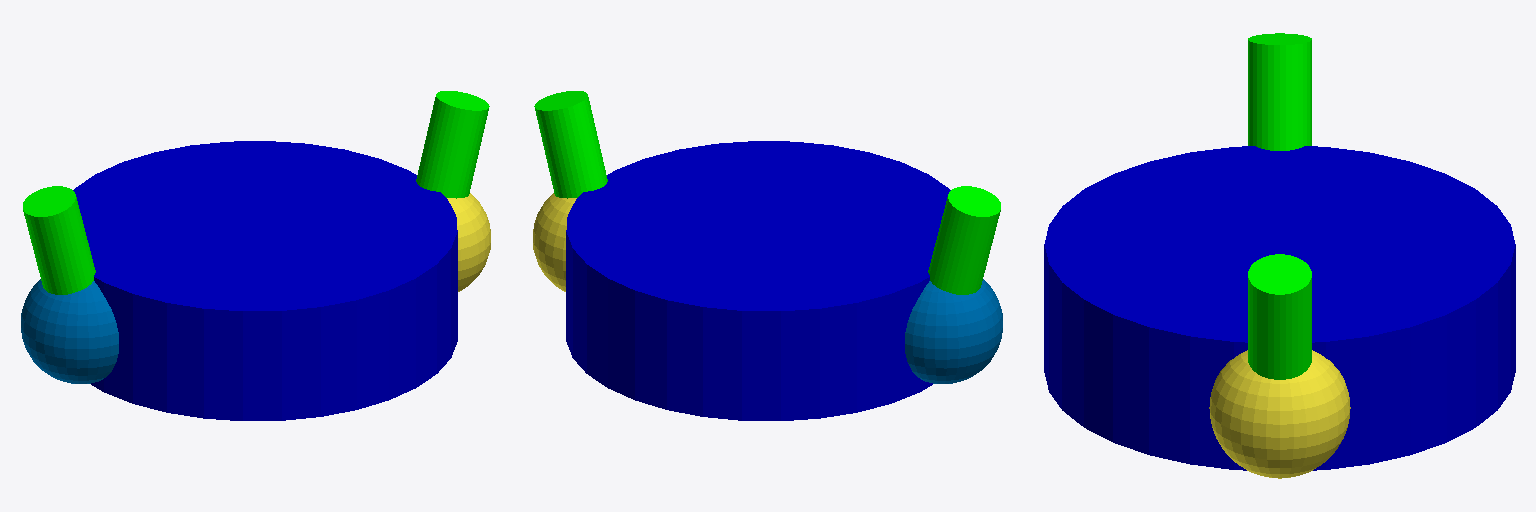
robot.urdf — gripper_2f_1j:
<?xml version='1.0' encoding='UTF-8'?>
<robot name="gripper_2f_1j">
  <link name="palm">
    <inertial>
      <origin xyz="0.0 0.0 0.0" rpy="0.0 -0.0 0.0"/>
      <mass value="1.0"/>
      <inertia ixx="1.0" ixy="0.0" ixz="0.0" iyy="1.0" iyz="0.0" izz="1.0"/>
    </inertial>
    <visual>
      <geometry>
        <cylinder radius="0.05" length="0.03"/>
      </geometry>
      <material name="blue"/>
      <origin xyz="0.0 0.0 0.0" rpy="0.0 -0.0 0.0"/>
    </visual>
    <collision>
      <geometry>
        <cylinder radius="0.05" length="0.03"/>
      </geometry>
      <origin xyz="0.0 0.0 0.0" rpy="0.0 0.0 0.0"/>
    </collision>
  </link>
  <link name="f11">
    <inertial>
      <origin xyz="0.0 0.0 0.0" rpy="0.0 -0.0 0.0"/>
      <mass value="1.0"/>
      <inertia ixx="1.0" ixy="0.0" ixz="0.0" iyy="1.0" iyz="0.0" izz="1.0"/>
    </inertial>
    <visual>
      <geometry>
        <cylinder radius="0.0067993569922371695" length="0.03663931314959"/>
      </geometry>
      <material name="green"/>
      <origin xyz="0.0 0.0 0.018319656574795" rpy="0.0 -0.0 0.0"/>
    </visual>
    <collision>
      <geometry>
        <cylinder radius="0.0067993569922371695" length="0.03663931314959"/>
      </geometry>
      <origin xyz="0.0 0.0 0.05" rpy="0.0 0.0 0.0"/>
    </collision>
  </link>
  <link name="f21">
    <inertial>
      <origin xyz="0.0 0.0 0.0" rpy="0.0 -0.0 0.0"/>
      <mass value="1.0"/>
      <inertia ixx="1.0" ixy="0.0" ixz="0.0" iyy="1.0" iyz="0.0" izz="1.0"/>
    </inertial>
    <visual>
      <geometry>
        <cylinder radius="0.0067993569922371695" length="0.03663931314959"/>
      </geometry>
      <material name="green"/>
      <origin xyz="0.0 0.0 0.018319656574795" rpy="0.0 -0.0 0.0"/>
    </visual>
    <collision>
      <geometry>
        <cylinder radius="0.0067993569922371695" length="0.03663931314959"/>
      </geometry>
      <origin xyz="0.0 0.0 0.05" rpy="0.0 0.0 0.0"/>
    </collision>
  </link>
  <link name="f11_base">
    <inertial>
      <origin xyz="0.0 0.0 0.0" rpy="0.0 -0.0 0.0"/>
      <mass value="1.0"/>
      <inertia ixx="1.0" ixy="0.0" ixz="0.0" iyy="1.0" iyz="0.0" izz="1.0"/>
    </inertial>
    <visual>
      <geometry>
        <sphere radius="0.015"/>
      </geometry>
      <origin xyz="0.0 0.0 0.0" rpy="0.0 -0.0 0.0"/>
    </visual>
  </link>
  <link name="f21_base">
    <inertial>
      <origin xyz="0.0 0.0 0.0" rpy="0.0 -0.0 0.0"/>
      <mass value="1.0"/>
      <inertia ixx="1.0" ixy="0.0" ixz="0.0" iyy="1.0" iyz="0.0" izz="1.0"/>
    </inertial>
    <visual>
      <geometry>
        <sphere radius="0.015"/>
      </geometry>
      <origin xyz="0.0 0.0 0.0" rpy="0.0 -0.0 0.0"/>
    </visual>
  </link>
  <joint name="f11_joint" type="revolute">
    <dynamics damping="100.0" friction="1.0"/>
    <limit effort="30.0" velocity="2.0" lower="-0.6" upper="0.25"/>
    <parent link="f11_base"/>
    <child link="f11"/>
    <axis xyz="0. 1. 0."/>
    <origin xyz="0.0 0.0 0.0" rpy="0.0 0.25 0.0"/>
  </joint>
  <joint name="f21_joint" type="revolute">
    <dynamics damping="100.0" friction="1.0"/>
    <limit effort="30.0" velocity="2.0" lower="-0.6" upper="0.25"/>
    <parent link="f21_base"/>
    <child link="f21"/>
    <axis xyz=" 0. -1.  0."/>
    <origin xyz="0.0 0.0 0.0" rpy="0.0 -0.25 0.0"/>
  </joint>
  <joint name="f11_base_joint" type="fixed">
    <parent link="palm"/>
    <child link="f11_base"/>
    <axis xyz="1. 0. 0."/>
    <origin xyz="0.05 0.0 0.0" rpy="0.0 0.0 0.0"/>
  </joint>
  <joint name="f21_base_joint" type="fixed">
    <parent link="palm"/>
    <child link="f21_base"/>
    <axis xyz="1. 0. 0."/>
    <origin xyz="-0.05 -0.0 0.0" rpy="0.0 0.0 0.0"/>
  </joint>
  <material name="blue">
    <color rgba="0.  0.  0.8 1. "/>
  </material>
  <material name="green">
    <color rgba="0. 1. 0. 1."/>
  </material>
</robot>

--- What the picture shows (computed from the rendered views, not written in the file) ---
3 views of the same robot in one strip: view 1: azimuth 30°, elevation 25°; view 2: azimuth 150°, elevation 25°; view 3: azimuth 270°, elevation 25° (orthographic).
Robot: gripper_2f_1j — 5 links, 4 joints (2 revolute, 2 fixed); root link palm; default pose: every joint at zero.
Visible links, largest first — view 1: palm, f21_base, f21, f11, f11_base; view 2: palm, f21_base, f21, f11, f11_base; view 3: palm, f11_base, f11, f21.
Link boxes in pixels (<box>): palm: <box>73,141,457,420</box>; f21_base: <box>21,279,118,383</box>; f21: <box>23,186,95,294</box>; f11: <box>416,91,489,198</box>; f11_base: <box>447,193,490,291</box>; palm: <box>566,141,950,420</box>; f21_base: <box>905,279,1002,383</box>; f21: <box>928,186,1000,294</box>; f11: <box>534,91,607,198</box>; f11_base: <box>533,193,576,291</box>; palm: <box>1044,146,1515,470</box>; f11_base: <box>1209,350,1350,478</box>; f11: <box>1248,254,1311,379</box>; f21: <box>1248,33,1311,150</box>.
Bounding box of the posed robot: 0.1313 × 0.1 × 0.0522 m (x, y, z).
Geometry: primitives only (box / cylinder / sphere), no mesh files.